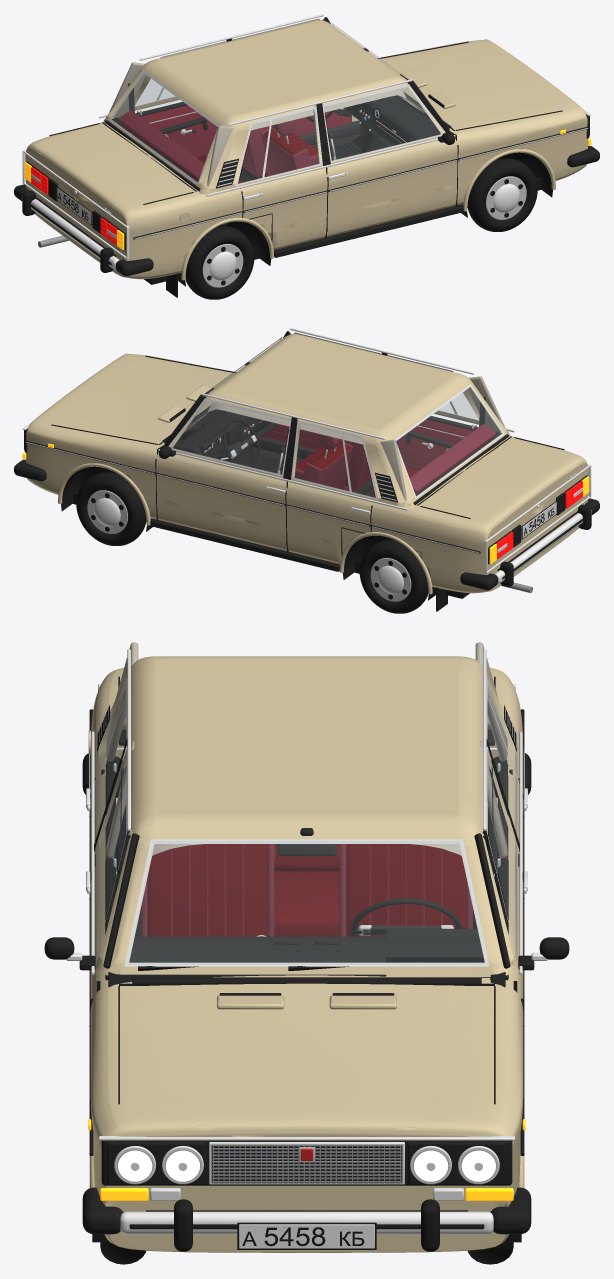
The model's file is lada-2106.glb.
3 renders of one model, top to bottom at view 1: azimuth 30°, elevation 25°; view 2: azimuth 150°, elevation 25°; view 3: azimuth 270°, elevation 25°, orthographic. The views are drawn at different scales.
Parts seen in each view (by area): view 1: Body_Lower, Body_Cabin, Glass_Rear, Glass_FrontDoor_R, Glass_RearDoor_R, Wheel_FR_Tyre, Wheel_RR_Tyre, Int_Dashboard, Int_RearDoor_1_Card, Sill_-1, Int_Rear_Back_Top, Rear_Bumper (+30 smaller); view 2: Body_Lower, Body_Cabin, Glass_Rear, Glass_FrontDoor_L, Glass_RearDoor_L, Wheel_FL_Tyre, Wheel_RL_Tyre, Int_RearDoor_-1_Card, Int_Dashboard, Sill_1, Int_Rear_Back_Top, Rear_Bumper (+29 smaller); view 3: Body_Lower, Body_Cabin, Glass_Windshield, Int_Seat_Pass_Back, Int_Dashboard, Int_Seat_Driver_Back, Front_Bumper, Glass_Windshield_Frame, Grille_Back, Int_Rear_Cushion, Front_Plate_Face, Cowl_Vent (+31 smaller).
Boxes of the visible parts, x1=… form: Body_Lower: x1=25, y1=40, x2=588, y2=279; Body_Cabin: x1=103, y1=20, x2=445, y2=194; Glass_Rear: x1=111, y1=72, x2=217, y2=182; Glass_FrontDoor_R: x1=325, y1=87, x2=441, y2=160; Glass_RearDoor_R: x1=239, y1=109, x2=319, y2=183; Wheel_FR_Tyre: x1=467, y1=158, x2=537, y2=231; Wheel_RR_Tyre: x1=185, y1=226, x2=254, y2=299; Int_Dashboard: x1=345, y1=95, x2=455, y2=145; Int_RearDoor_1_Card: x1=140, y1=105, x2=217, y2=157; Sill_-1: x1=274, y1=204, x2=463, y2=257; Int_Rear_Back_Top: x1=118, y1=110, x2=204, y2=178; Rear_Bumper: x1=22, y1=195, x2=119, y2=269; Body_Lower: x1=25, y1=354, x2=588, y2=593; Body_Cabin: x1=168, y1=334, x2=510, y2=508; Glass_Rear: x1=396, y1=386, x2=502, y2=496; Glass_FrontDoor_L: x1=172, y1=401, x2=288, y2=474; Glass_RearDoor_L: x1=294, y1=423, x2=374, y2=497; Wheel_FL_Tyre: x1=76, y1=472, x2=146, y2=545; Wheel_RL_Tyre: x1=359, y1=540, x2=428, y2=613; Int_RearDoor_-1_Card: x1=396, y1=419, x2=473, y2=471; Int_Dashboard: x1=158, y1=409, x2=270, y2=459; Sill_1: x1=150, y1=518, x2=339, y2=571; Int_Rear_Back_Top: x1=409, y1=424, x2=495, y2=492; Rear_Bumper: x1=494, y1=509, x2=591, y2=583; Body_Lower: x1=90, y1=668, x2=523, y2=1252; Body_Cabin: x1=96, y1=656, x2=517, y2=977; Glass_Windshield: x1=129, y1=841, x2=484, y2=963; Int_Seat_Pass_Back: x1=147, y1=844, x2=267, y2=936; Int_Dashboard: x1=108, y1=936, x2=505, y2=987; Int_Seat_Driver_Back: x1=346, y1=844, x2=466, y2=936; Front_Bumper: x1=120, y1=1211, x2=493, y2=1234; Glass_Windshield_Frame: x1=124, y1=839, x2=489, y2=966; Grille_Back: x1=211, y1=1145, x2=402, y2=1183; Int_Rear_Cushion: x1=274, y1=871, x2=339, y2=936; Front_Plate_Face: x1=239, y1=1224, x2=374, y2=1248; Cowl_Vent: x1=132, y1=977, x2=481, y2=985.
Bounding box in the file's own units: 4.22 × 1.41 × 1.95.
36 materials, 2 textured.
